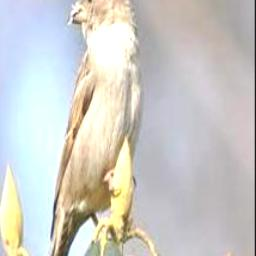Sparrow: (45, 0, 144, 256)
